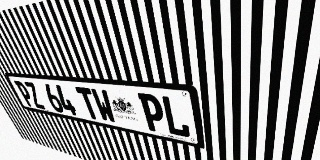4: (53, 84, 78, 116)
6: (41, 83, 66, 113)
L: (160, 95, 191, 139)
P: (137, 93, 167, 134), (14, 81, 36, 108)
T: (75, 87, 102, 121)
W: (90, 88, 118, 124)
Z: (23, 81, 46, 110)
